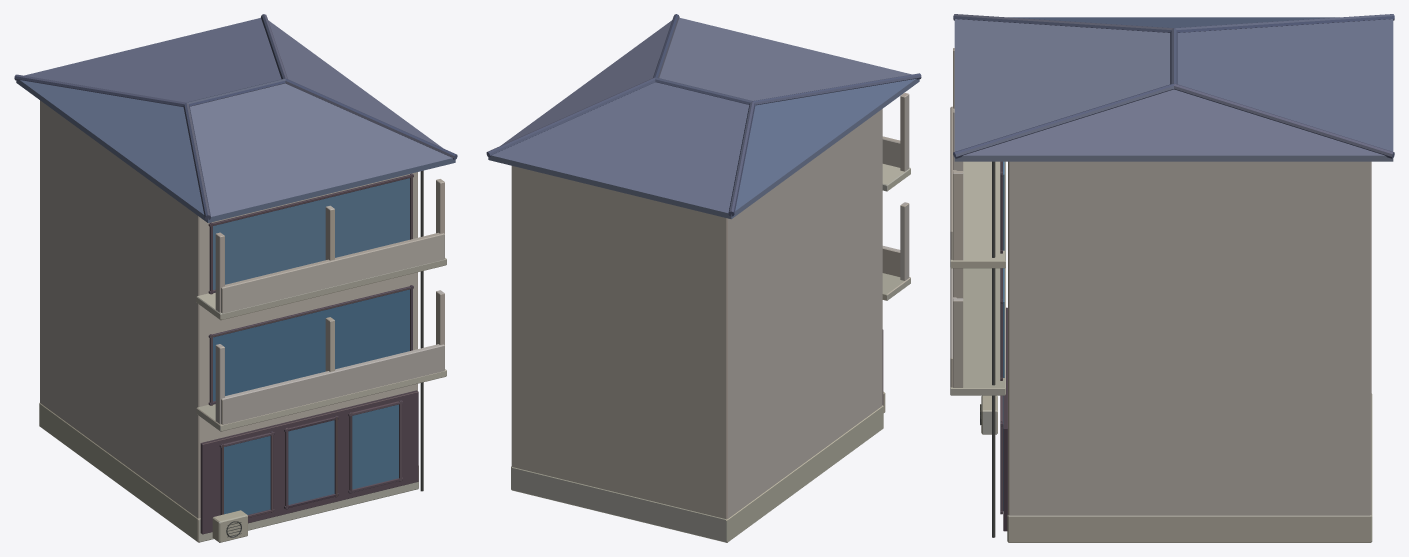
File: ART_ThreeStorey.lod.glb
3 renders of one model, left to right at view 1: azimuth 30°, elevation 25°; view 2: azimuth 150°, elevation 25°; view 3: azimuth 270°, elevation 25°, orthographic. The views are drawn at different scales.
Visible parts, largest first — view 1: ART_ThreeStorey; view 2: ART_ThreeStorey; view 3: ART_ThreeStorey.
Part boxes in pixels (x1,y1,x2,y2): ART_ThreeStorey: (14,14,457,542); ART_ThreeStorey: (486,14,921,542); ART_ThreeStorey: (950,14,1394,542).
Bounding box in the file's own units: 6.89 × 9.69 × 9.18.
